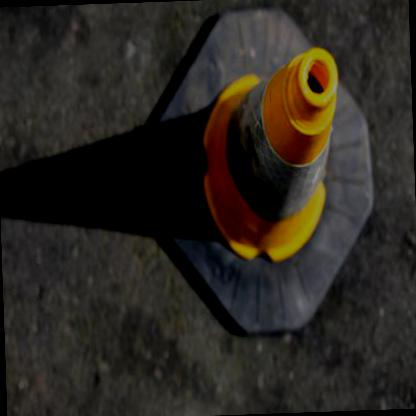cone: (170, 22, 365, 322)
